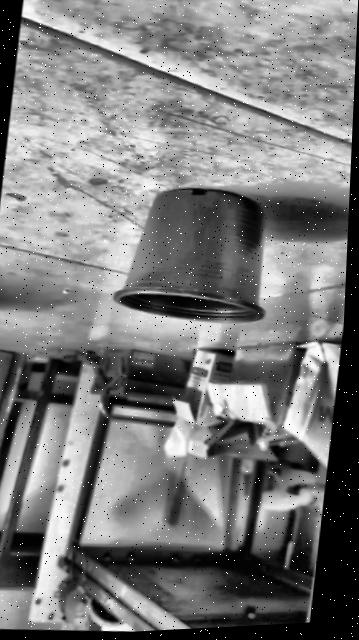pot: (110, 179, 278, 330)
